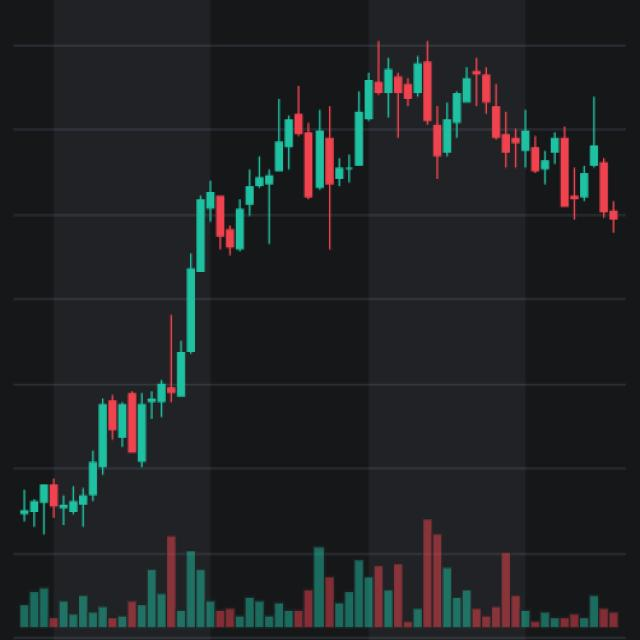Channel-up: (10, 9, 368, 569)
